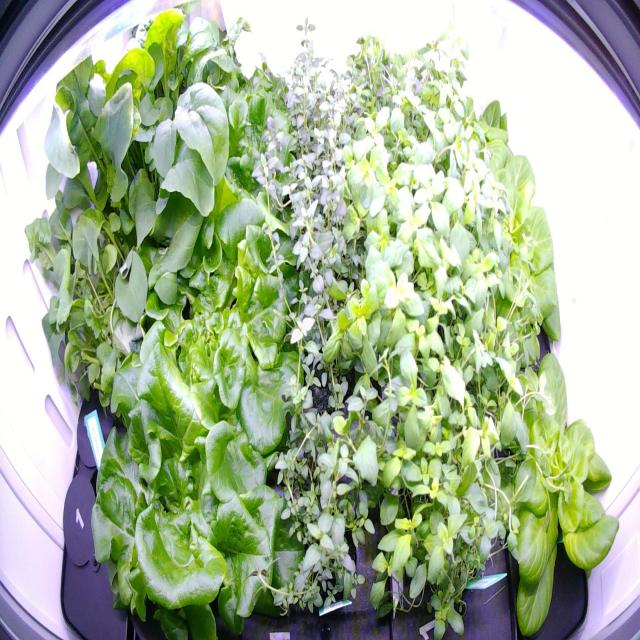young: (469, 344, 622, 638), (431, 146, 565, 358), (431, 65, 531, 188)
